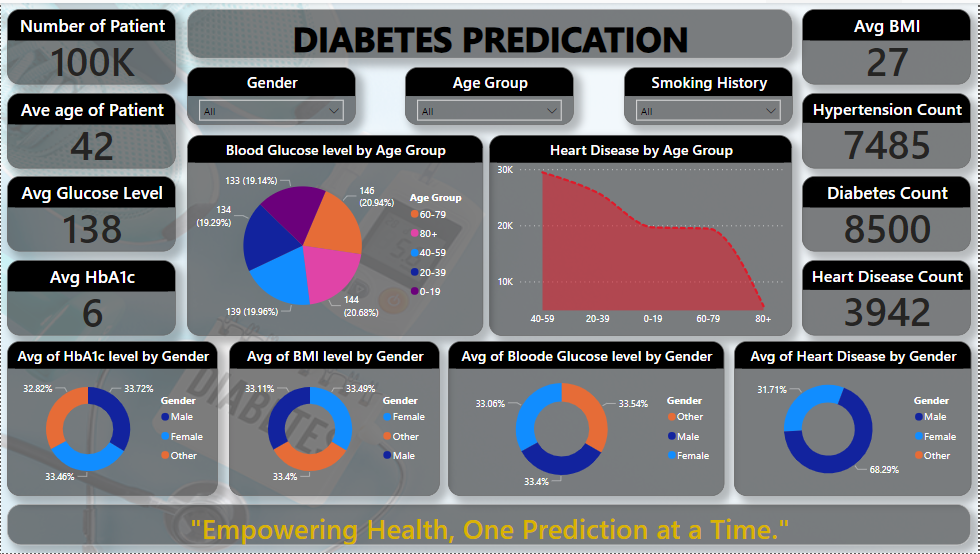

This screenshot's page, from the dashboard's own definition file:
{"tool":"powerbi","page":{"name":"Page 1","canvas":[1280,720],"ordinal":0},"visuals":[{"type":"card","title":"Number of Patient","fields":{"Values":["CountNonNull(Sheet1.Patient id)"]},"box":[8.2,8.2,221.4,99],"z":0},{"type":"card","title":"Ave age of Patient","fields":{"Values":["Avg(Sheet1.Age)"]},"box":[8.2,118.2,221.4,99],"z":1000},{"type":"card","title":"Avg Glucose Level","fields":{"Values":["Avg(Sheet1.blood Glucose level)"]},"box":[8.2,226.9,221.4,99],"z":2000},{"type":"textbox","title":"DIABETES PREDICATION","box":[243.4,8.2,793.3,64.6],"z":3000},{"type":"card","title":"Avg BMI","fields":{"Values":["Avg(Sheet1.BMI)"]},"box":[1049,8.2,221.4,99],"z":4000},{"type":"card","title":"Avg HbA1c","fields":{"Values":["Avg(Sheet1.HbA1c level)"]},"box":[8.2,336.8,221.4,99],"z":5000},{"type":"card","title":"Diabetes Count","fields":{"Values":["Sheet1.Diabetes Count"]},"box":[1049,226.9,221.4,99],"z":6000},{"type":"card","title":"Hypertension Count","fields":{"Values":["Sheet1.Hypertension Count"]},"box":[1049,118.2,221.4,99],"z":7000},{"type":"card","title":"Heart Disease Count","fields":{"Values":["Sheet1.Heart Disease Count"]},"box":[1049,336.8,221.4,99],"z":8000},{"type":"slicer","title":"Gender","fields":{"Values":["Sheet1.Gender"]},"box":[243.4,83.9,221.4,75.6],"z":9000},{"type":"slicer","title":"Smoking History","fields":{"Values":["Sheet1.Smoking_History"]},"box":[815.3,83.9,221.4,75.6],"z":10000},{"type":"slicer","title":"Age Group","fields":{"Values":["Sheet1.AgeGroup"]},"box":[529.3,83.9,221.4,75.6],"z":11000},{"type":"pieChart","title":"Blood Glucose level by Age Group","fields":{"Category":["Sheet1.AgeGroup"],"Y":["Avg(Sheet1.blood Glucose level)"]},"box":[243.4,173.2,387.7,262.6],"z":11001},{"type":"areaChart","title":"Heart Disease by Age Group","fields":{"Category":["Sheet1.AgeGroup"],"Y":["CountNonNull(Sheet1.Heart Disease)"]},"box":[639.3,173.2,397.3,262.6],"z":11002},{"type":"donutChart","title":"Avg of HbA1c level by Gender","fields":{"Category":["Sheet1.Gender"],"Y":["Avg(Sheet1.HbA1c level)"]},"box":[8.2,442.7,276.3,203.5],"z":11003},{"type":"donutChart","title":"Avg of BMI level by Gender","fields":{"Category":["Sheet1.Gender"],"Y":["Avg(Sheet1.BMI)"]},"box":[298.3,442.7,276.3,203.5],"z":11004},{"type":"donutChart","title":"Avg of Bloode Glucose level by Gender","fields":{"Category":["Sheet1.Gender"],"Y":["Avg(Sheet1.blood Glucose level)"]},"box":[585.7,442.7,361.6,203.5],"z":11005},{"type":"donutChart","title":"Avg of Heart Disease by Gender","fields":{"Category":["Sheet1.Gender"],"Y":["Avg(Sheet1.Heart Disease)"]},"box":[959.7,442.7,310.7,203.5],"z":11006},{"type":"textbox","title":"\"Empowering Health, One Prediction at a Time.\"","box":[8.2,655.8,1262.1,53.6],"z":11007}]}

Visuals, with their boxes in screenshot pixels (x1, y1, x2, y2), scaled from the page's 1280x720 canvas onto the 980x554 screenshot:
"Number of Patient" card: 6/6/176/82
"Ave age of Patient" card: 6/91/176/167
"Avg Glucose Level" card: 6/175/176/251
"DIABETES PREDICATION" textbox: 186/6/794/56
"Avg BMI" card: 803/6/973/82
"Avg HbA1c" card: 6/259/176/335
"Diabetes Count" card: 803/175/973/251
"Hypertension Count" card: 803/91/973/167
"Heart Disease Count" card: 803/259/973/335
"Gender" slicer: 186/65/356/123
"Smoking History" slicer: 624/65/794/123
"Age Group" slicer: 405/65/575/123
"Blood Glucose level by Age Group" pieChart: 186/133/483/335
"Heart Disease by Age Group" areaChart: 489/133/794/335
"Avg of HbA1c level by Gender" donutChart: 6/341/218/497
"Avg of BMI level by Gender" donutChart: 228/341/440/497
"Avg of Bloode Glucose level by Gender" donutChart: 448/341/725/497
"Avg of Heart Disease by Gender" donutChart: 735/341/973/497
""Empowering Health, One Prediction at a Time."" textbox: 6/505/973/546
